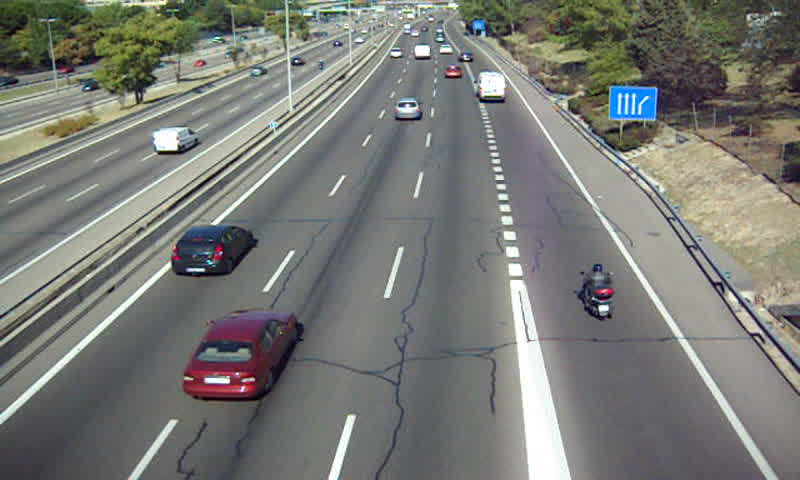car: (180, 308, 298, 401), (169, 226, 253, 277), (392, 98, 421, 122), (444, 64, 462, 78), (458, 50, 474, 63), (439, 43, 454, 56), (389, 47, 402, 60)
motorcycle: (579, 263, 615, 320)
van: (477, 70, 507, 103), (412, 44, 429, 60)
